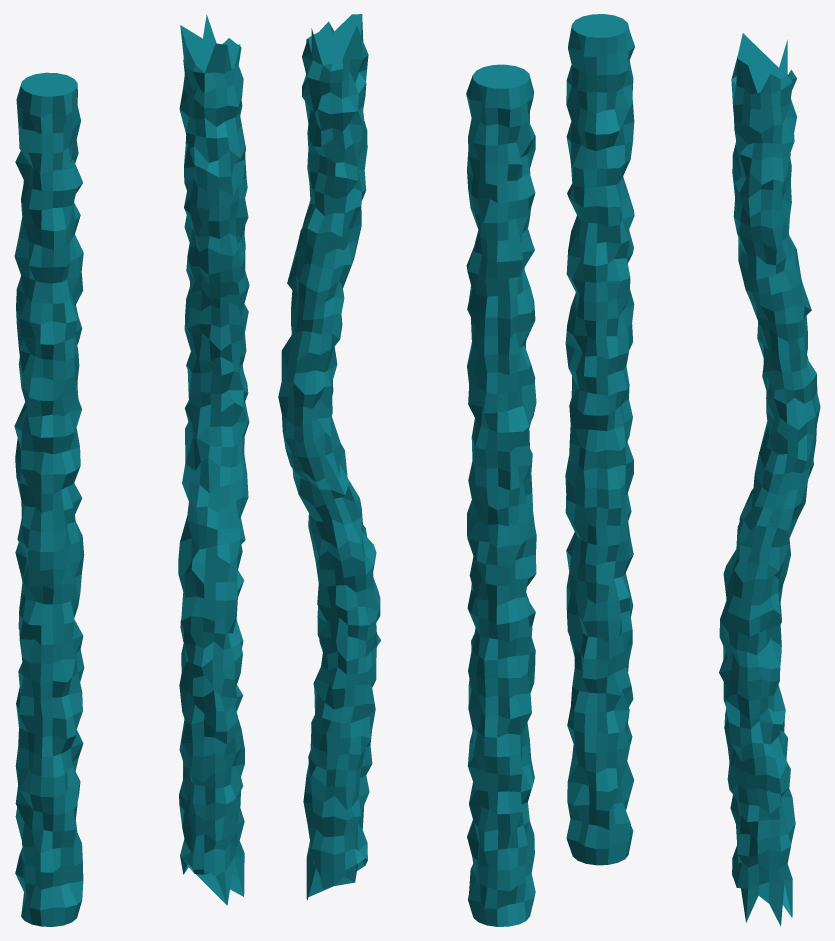
The model's file is sticks.fbx.
The picture shows the model from 3 angles, left to right: view 1: azimuth 30°, elevation 25°; view 2: azimuth 150°, elevation 25°; view 3: azimuth 330°, elevation 25°; orthographic projection.
Parts seen in each view (by area): view 1: Stick, Stick.001; view 2: Stick, Stick.001; view 3: Stick, Stick.001.
Boxes of the visible parts, <box> form: Stick: <box>14,72,84,926</box>; Stick.001: <box>178,14,249,905</box>; Stick: <box>466,64,536,926</box>; Stick.001: <box>278,14,380,900</box>; Stick: <box>565,14,634,865</box>; Stick.001: <box>719,33,820,926</box>.
Bounding box in the file's own units: 476 × 1690 × 162.
